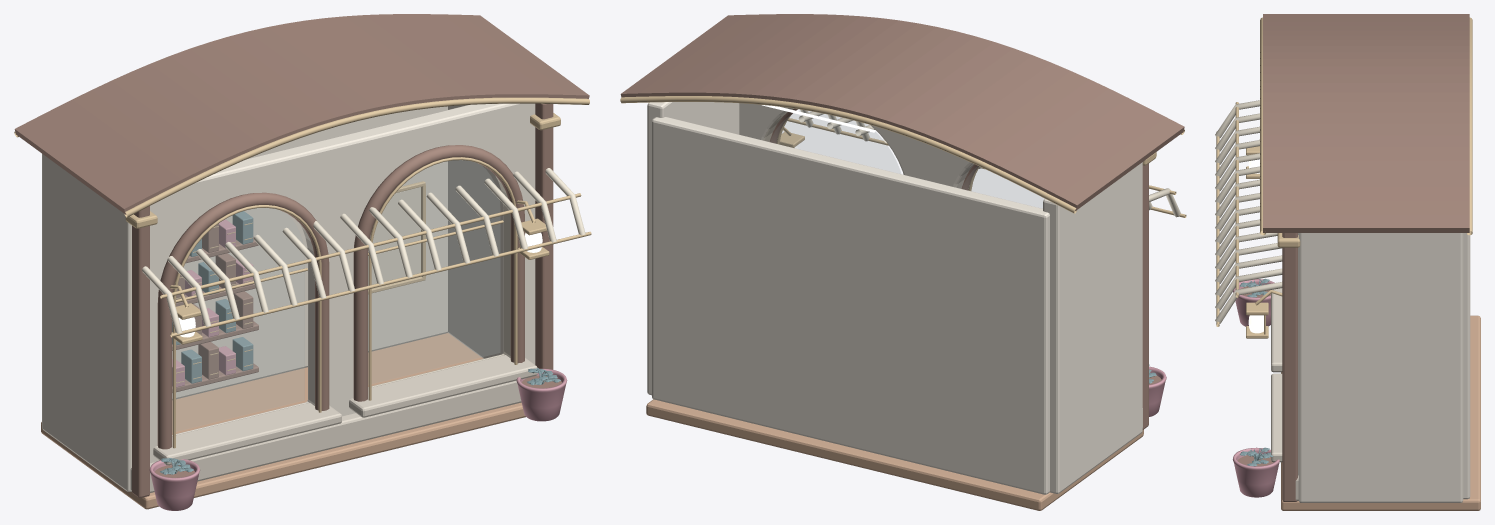
Rendered from atelier.glb.
The picture shows the model from 3 angles, left to right: view 1: azimuth 30°, elevation 25°; view 2: azimuth 150°, elevation 25°; view 3: azimuth 270°, elevation 25°; orthographic projection. The views are drawn at different scales.
Parts seen in each view (by area): view 1: atelier-plaster, atelier-darkWood, atelier-glass, atelier-stone, atelier-wood, atelier-brass, atelier-paper, atelier-rose, atelier-ink; view 2: atelier-plaster, atelier-darkWood, atelier-wood, atelier-glass, atelier-brass, atelier-paper; view 3: atelier-darkWood, atelier-plaster, atelier-paper, atelier-wood, atelier-brass, atelier-stone, atelier-rose, atelier-ink, atelier-glow.
Boxes of the visible parts, bbox=[...] form: atelier-plaster: bbox=[42, 103, 535, 491]; atelier-darkWood: bbox=[14, 14, 589, 497]; atelier-glass: bbox=[172, 160, 500, 431]; atelier-stone: bbox=[130, 355, 537, 492]; atelier-wood: bbox=[41, 333, 525, 509]; atelier-brass: bbox=[14, 97, 591, 448]; atelier-paper: bbox=[142, 168, 585, 333]; atelier-rose: bbox=[149, 219, 567, 510]; atelier-ink: bbox=[160, 211, 560, 474]; atelier-plaster: bbox=[647, 102, 1142, 494]; atelier-darkWood: bbox=[620, 14, 1184, 429]; atelier-wood: bbox=[646, 399, 1143, 510]; atelier-glass: bbox=[770, 110, 1043, 208]; atelier-brass: bbox=[620, 96, 1186, 217]; atelier-paper: bbox=[798, 109, 1180, 217]; atelier-darkWood: bbox=[1237, 14, 1469, 501]; atelier-plaster: bbox=[1298, 233, 1470, 502]; atelier-paper: bbox=[1215, 100, 1282, 323]; atelier-wood: bbox=[1281, 315, 1480, 510]; atelier-brass: bbox=[1216, 17, 1472, 338]; atelier-stone: bbox=[1271, 288, 1298, 500]; atelier-rose: bbox=[1232, 279, 1279, 497]; atelier-ink: bbox=[1239, 278, 1272, 466]; atelier-glow: bbox=[1248, 159, 1263, 333].
Bounding box in the file's own units: 7.85 × 5.75 × 4.12.
